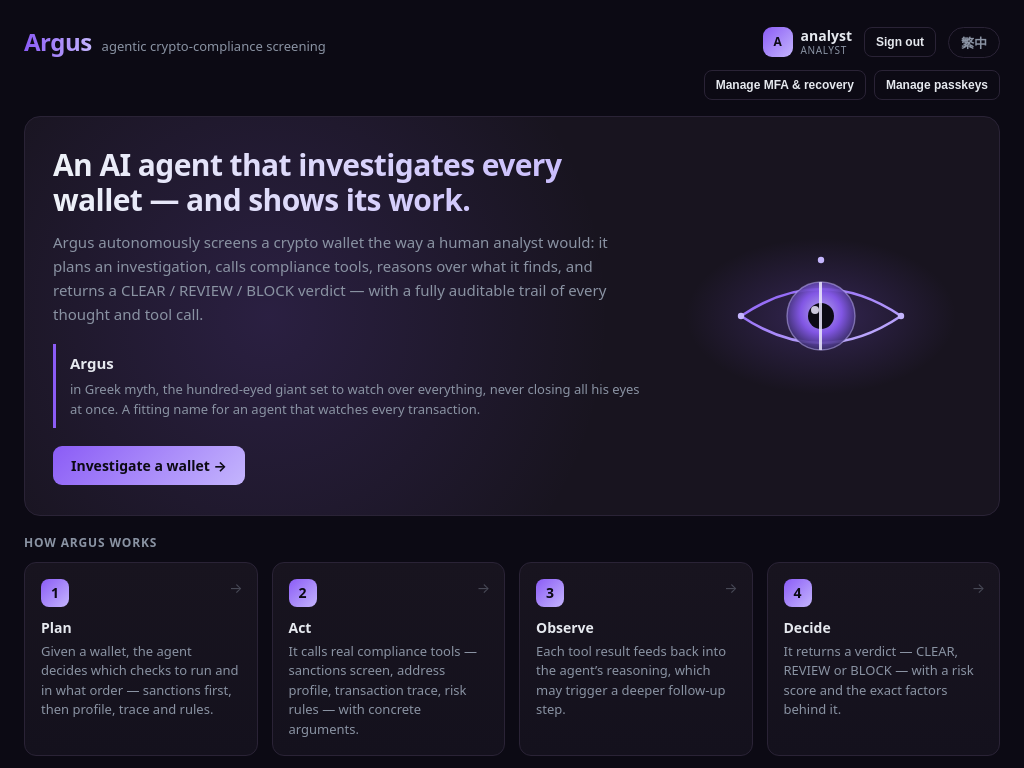
protected analyst console › registers and lists a passkey from protected security settings
Click the button "Manage passkeys" at [937, 85], box left=874, top=70, right=1000, bottom=100
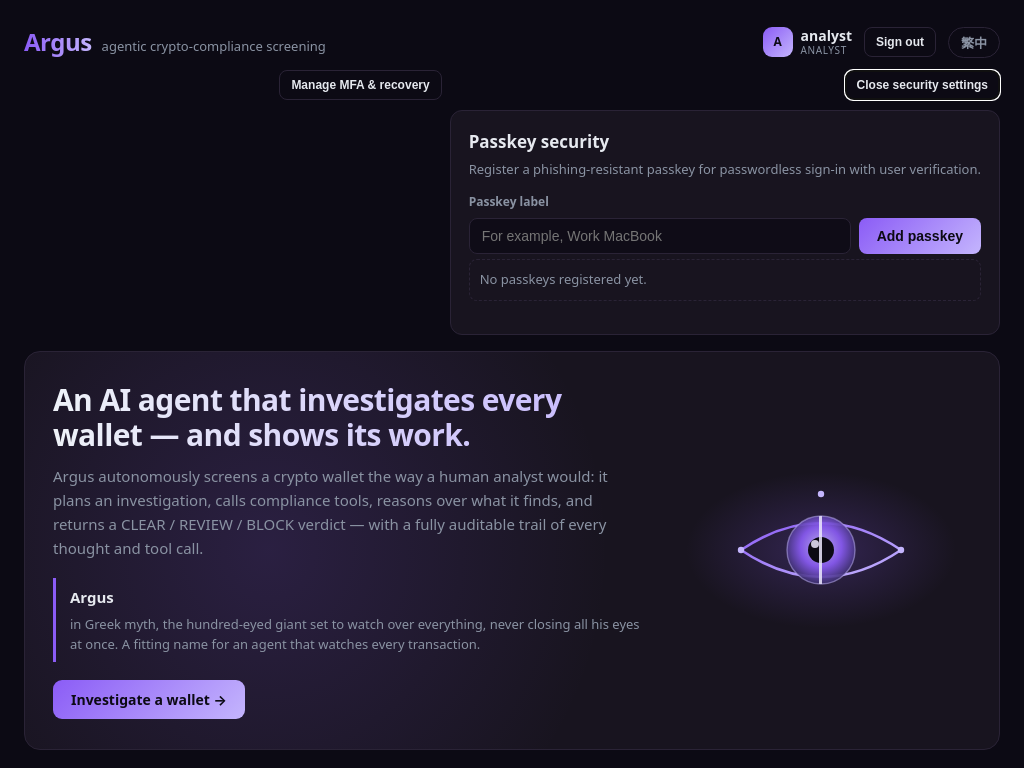
Expected: the text "No passkeys registered yet." is shown, left=469, top=259, right=981, bottom=300
Type "Work MacBook" into the field labelled "Passkey label" at [660, 236], box left=469, top=218, right=851, bottom=254
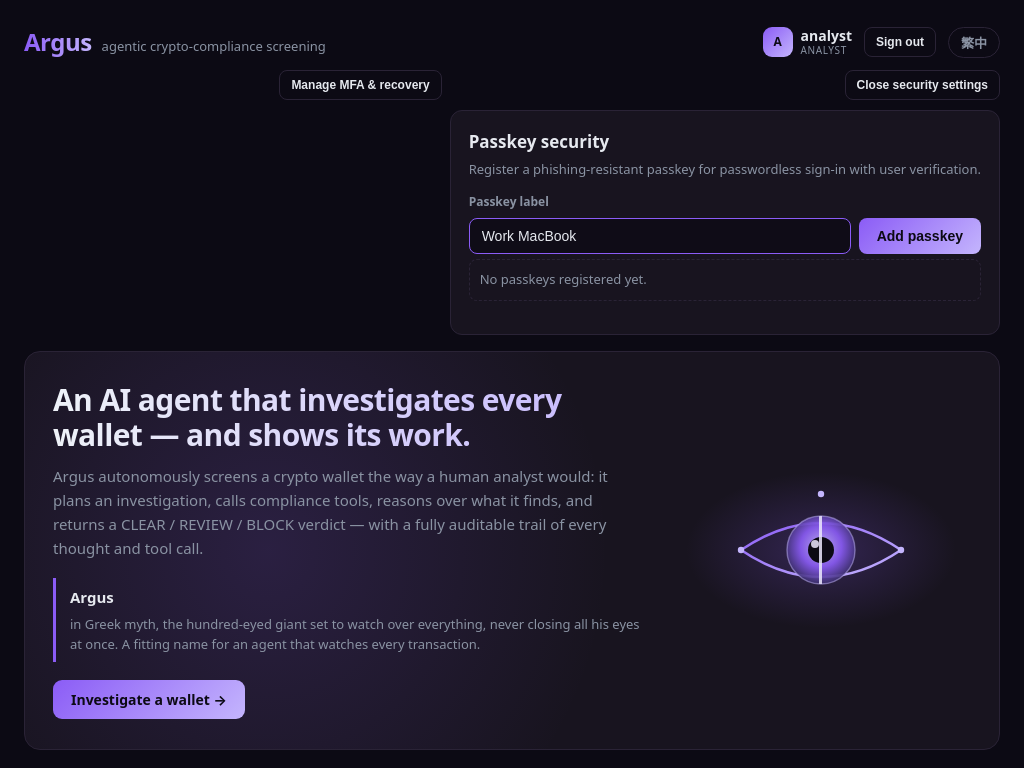
Click the button "Add passkey" at [920, 236], box left=859, top=218, right=981, bottom=254
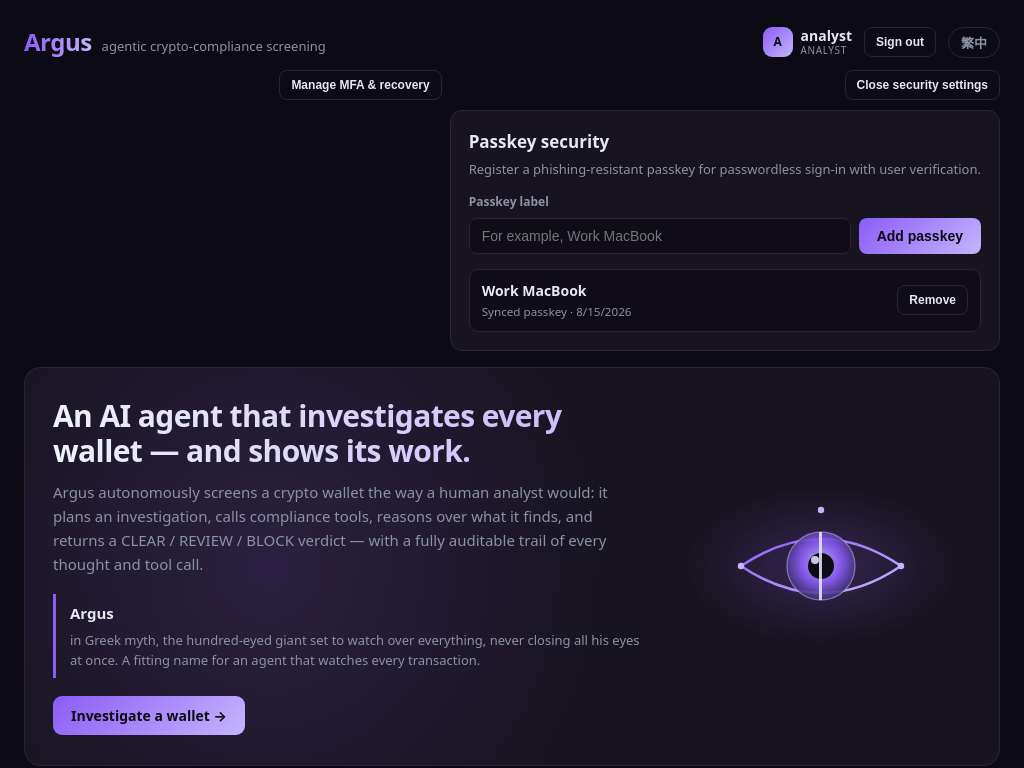
Expected: the text "Work MacBook" is shown, left=482, top=281, right=587, bottom=300
